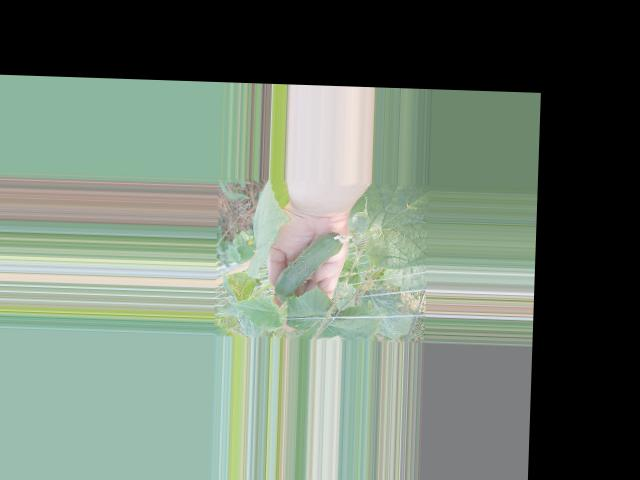cucumber: (275, 230, 353, 299)
